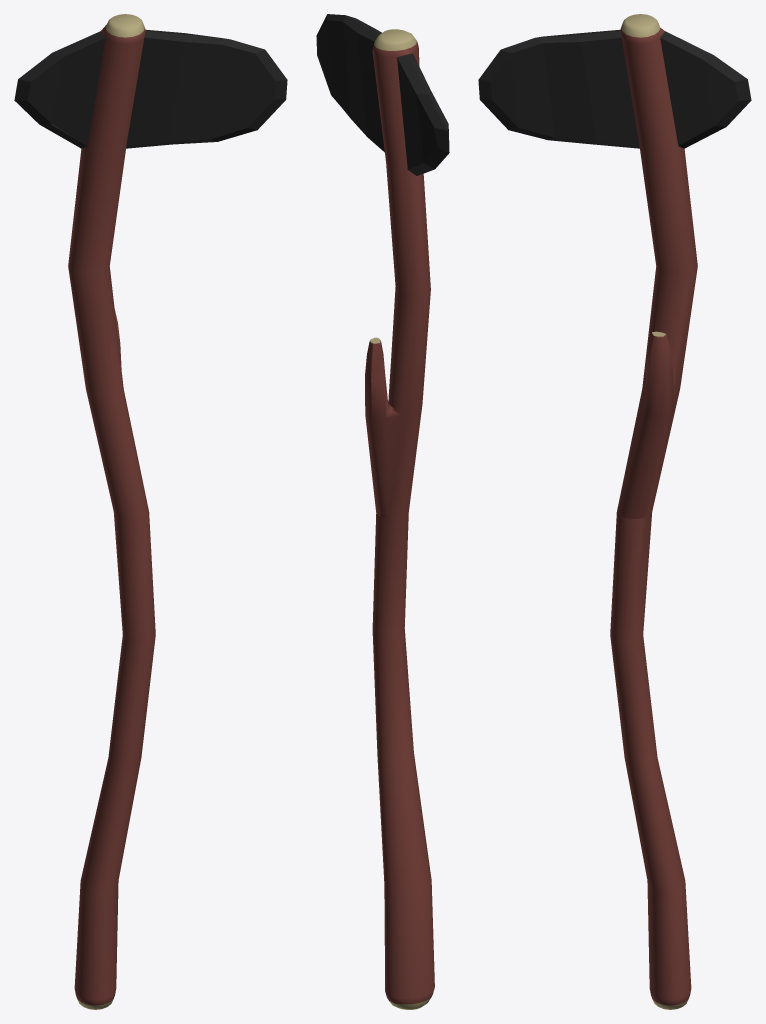
The model's file is Small_Axe.fbx.
3 renders of one model, left to right at view 1: azimuth 90°, elevation 25°; view 2: azimuth 210°, elevation 25°; view 3: azimuth 270°, elevation 25°, orthographic. The views are drawn at different scales.
Parts seen in each view (by area): view 1: pCylinder1; view 2: pCylinder1; view 3: pCylinder1.
Part boxes in pixels (x1,y1,x2,y2): pCylinder1: [14, 14, 287, 1009]; pCylinder1: [316, 14, 449, 1009]; pCylinder1: [478, 14, 751, 1009].
Bounding box in the file's own units: 0.1335 × 2 × 0.5035.
